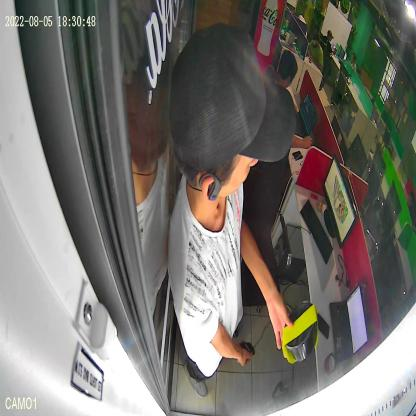yellow: (282, 302, 318, 365)
